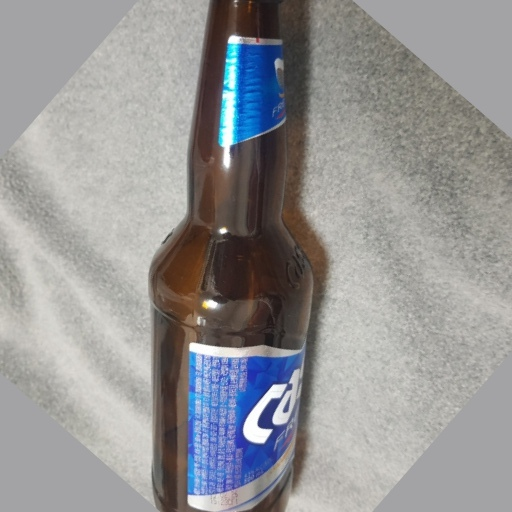Glass_1: (145, 3, 320, 512)
